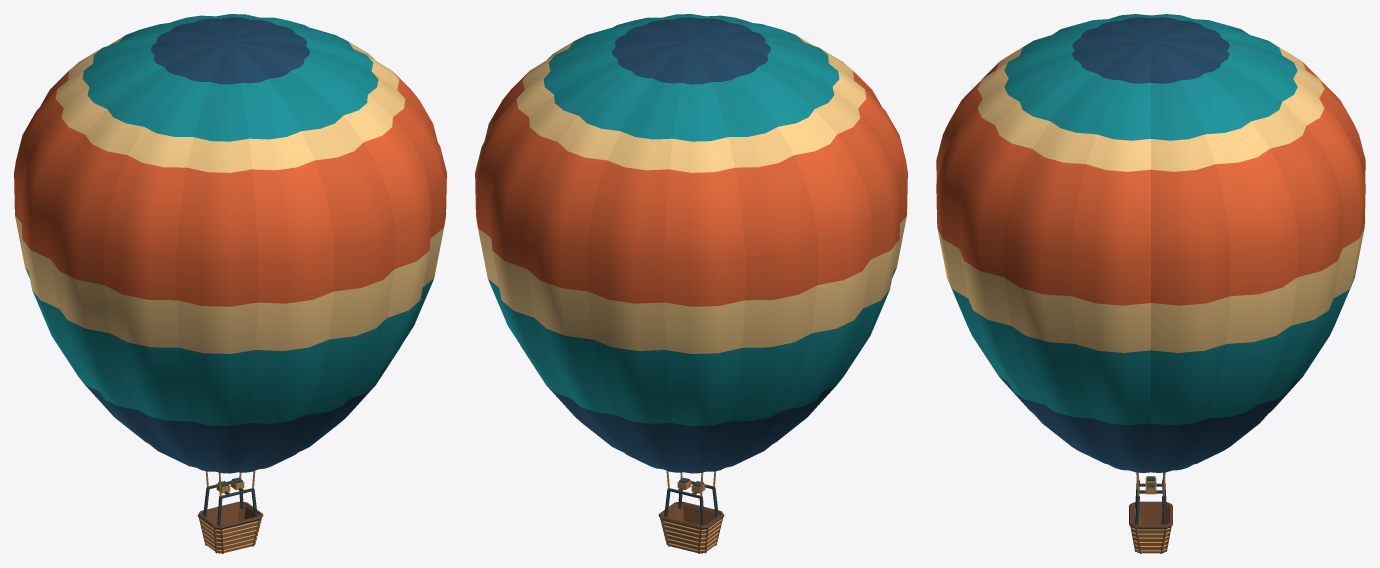
Rendered from hot_air_balloon_harbor_flame.glb.
3 renders of one model, left to right at view 1: azimuth 30°, elevation 25°; view 2: azimuth 150°, elevation 25°; view 3: azimuth 270°, elevation 25°, orthographic.
Parts seen in each view (by area): view 1: EnvelopeAndBasket; view 2: EnvelopeAndBasket; view 3: EnvelopeAndBasket.
Part boxes in pixels (bbox=[...]): EnvelopeAndBasket: bbox=[14, 14, 446, 553]; EnvelopeAndBasket: bbox=[475, 14, 907, 553]; EnvelopeAndBasket: bbox=[936, 14, 1365, 553].
Size of the model in its own units: 16.46 by 21.31 by 16.46.
1 material, 1 textured.
